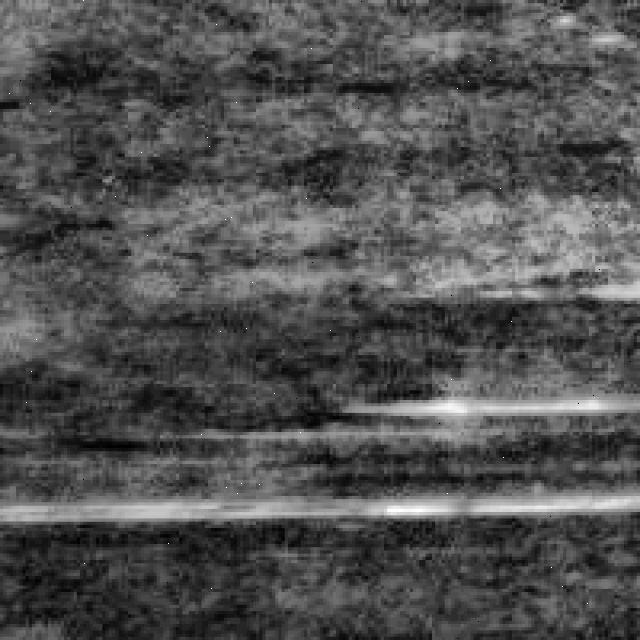Inclusion: (13, 474, 640, 524), (346, 387, 640, 422)
